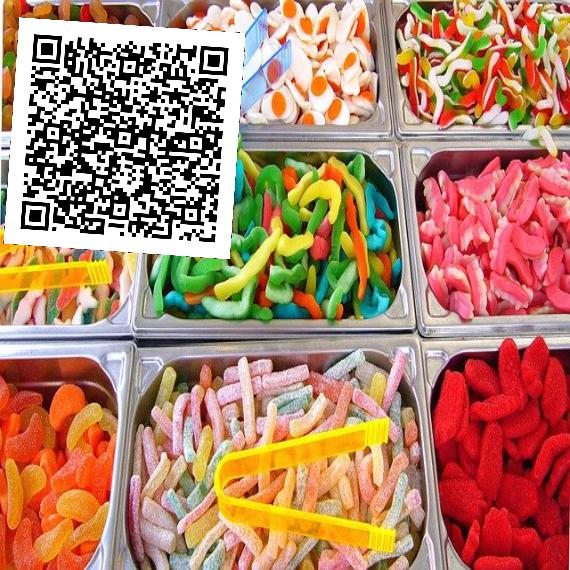qr_code: (3, 17, 245, 259)
